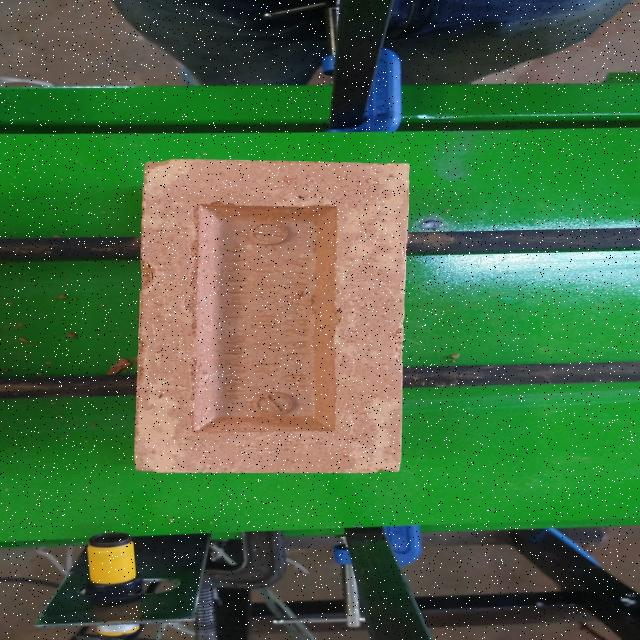bricks: (139, 163, 411, 473)
